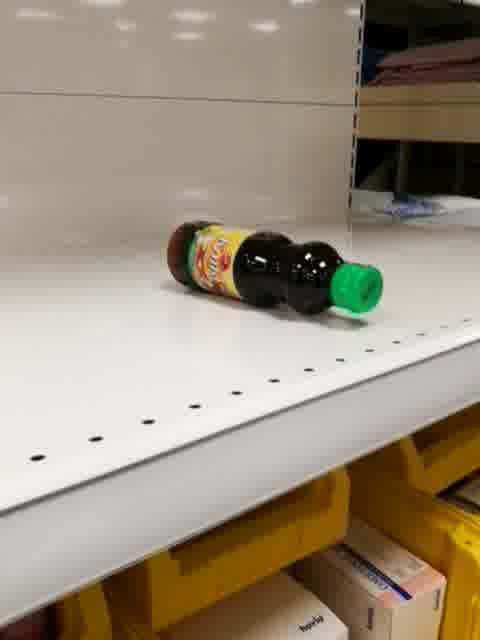cookingoil: (163, 217, 387, 321)
